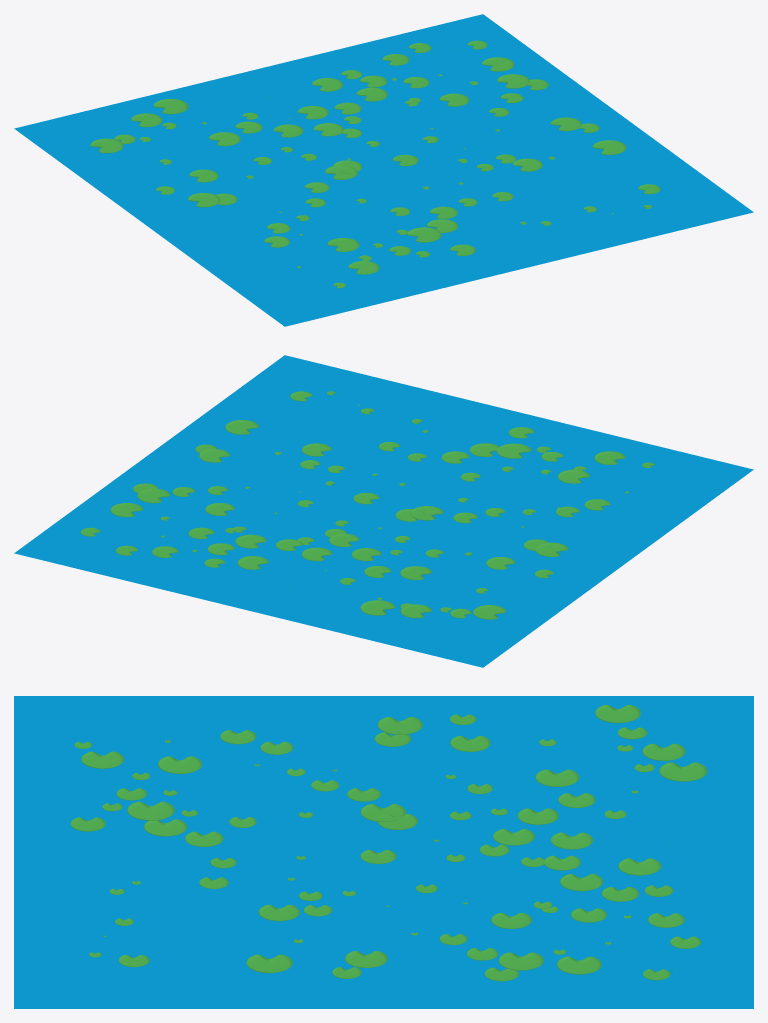
3 renders of one model, top to bottom at view 1: azimuth 30°, elevation 25°; view 2: azimuth 150°, elevation 25°; view 3: azimuth 270°, elevation 25°, orthographic. The views are drawn at different scales.
Parts seen in each view (by area): view 1: Plane; view 2: Plane; view 3: Plane, Circle.056, Circle.045, Circle.100, Circle.024, Circle.086, Circle.065, Circle.059, Circle.075, Circle.069, Circle.032, Circle.088 (+11 smaller).
Part boxes in pixels (left/top/right/bottom): Plane: left=14, top=14, right=753, bottom=326; Plane: left=14, top=355, right=753, bottom=667; Plane: left=14, top=696, right=753, bottom=1008; Circle.056: left=659, top=762, right=707, bottom=781; Circle.045: left=127, top=801, right=174, bottom=820; Circle.100: left=246, top=954, right=292, bottom=973; Circle.024: left=595, top=705, right=640, bottom=723; Circle.086: left=498, top=952, right=543, bottom=970; Circle.065: left=557, top=956, right=601, bottom=974; Circle.059: left=377, top=717, right=422, bottom=734; Circle.075: left=360, top=804, right=405, bottom=822; Circle.069: left=158, top=756, right=201, bottom=773; Circle.032: left=535, top=769, right=579, bottom=786; Circle.088: left=144, top=819, right=186, bottom=836.
Size of the model in its own units: 32 by 0.6108 by 32.
Materials: 2 (1 with a texture image).
